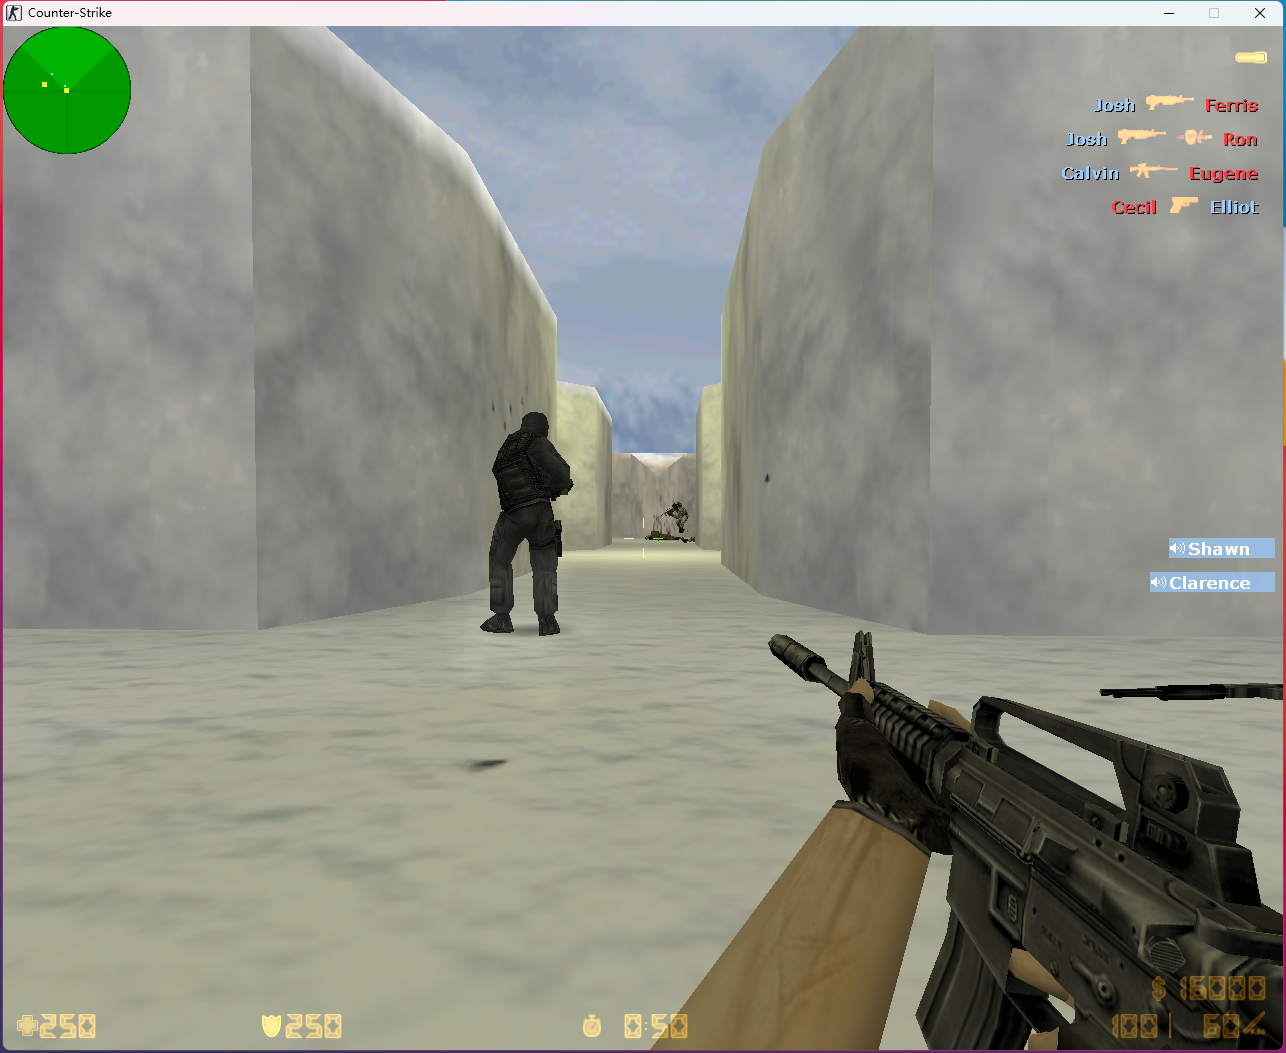C: (479, 408, 575, 646)
T: (663, 502, 691, 529)
dead: (640, 530, 689, 546)
weapon: (1094, 667, 1286, 709)
